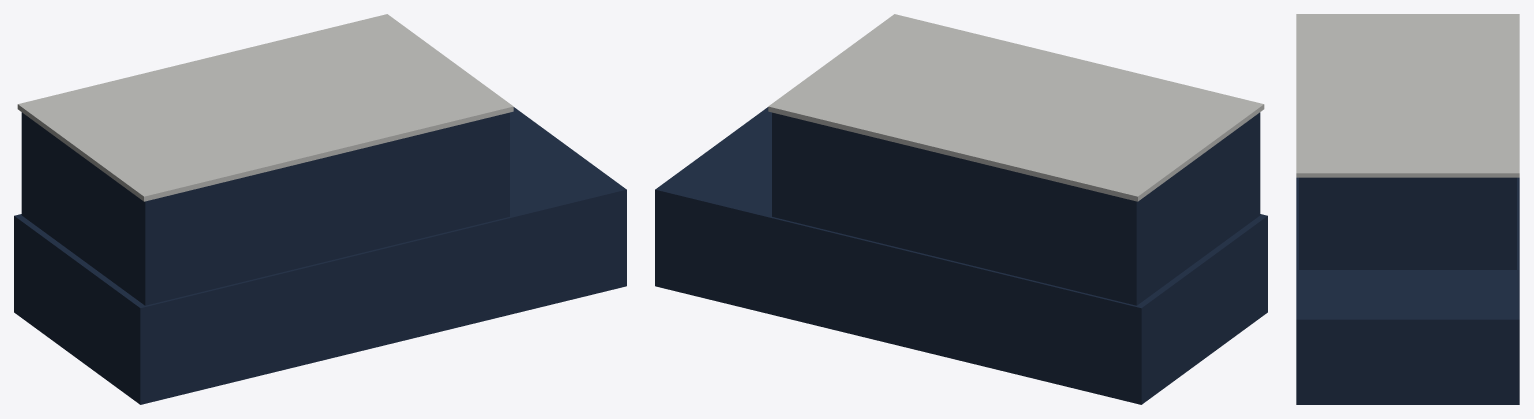
The model's file is SM_Farm4x4_2_Paint.glb.
3 views of the same model, side by side, from view 1: azimuth 30°, elevation 25°; view 2: azimuth 150°, elevation 25°; view 3: azimuth 270°, elevation 25° (orthographic). The views are drawn at different scales.
Parts seen in each view (by area): view 1: SM_Farm4x4_2_Paint; view 2: SM_Farm4x4_2_Paint; view 3: SM_Farm4x4_2_Paint.
Boxes of the visible parts, bbox=[...] form: SM_Farm4x4_2_Paint: bbox=[14, 14, 626, 404]; SM_Farm4x4_2_Paint: bbox=[655, 14, 1267, 404]; SM_Farm4x4_2_Paint: bbox=[1296, 14, 1519, 404].
Size of the model in its own units: 4 by 1.63 by 1.8.
